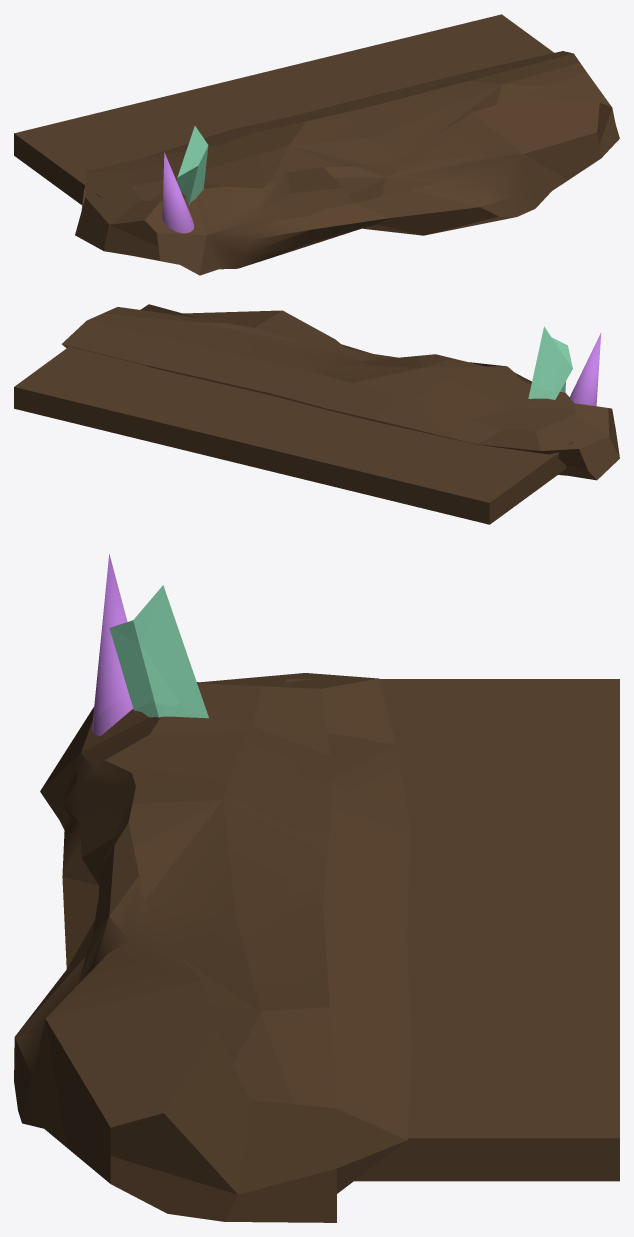
The model's file is Platform2V1.fbx.
3 renders of one model, top to bottom at view 1: azimuth 30°, elevation 25°; view 2: azimuth 150°, elevation 25°; view 3: azimuth 270°, elevation 25°, orthographic. The views are drawn at different scales.
Parts seen in each view (by area): view 1: pCube1, pCube2, pCube3, pCone1; view 2: pCube2, pCube1, pCube3, pCone1; view 3: pCube1, pCube2, pCube3, pCone1.
Boxes of the visible parts, x1,y1,x2,y2 form: pCube1: [75, 51, 619, 275]; pCube2: [14, 14, 553, 205]; pCube3: [176, 126, 208, 205]; pCone1: [162, 152, 194, 233]; pCube2: [14, 346, 573, 524]; pCube1: [62, 304, 619, 480]; pCube3: [528, 326, 572, 399]; pCone1: [569, 332, 601, 406]; pCube1: [14, 673, 411, 1222]; pCube2: [286, 679, 619, 1181]; pCube3: [109, 585, 208, 718]; pCone1: [92, 554, 133, 736].
Bounding box in the file's own units: 3.53 × 0.9259 × 1.82.
